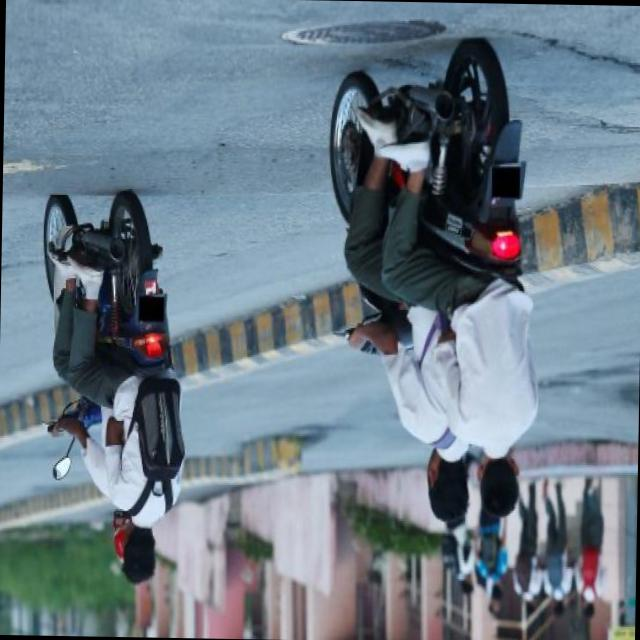bareface: (418, 449, 473, 534)
